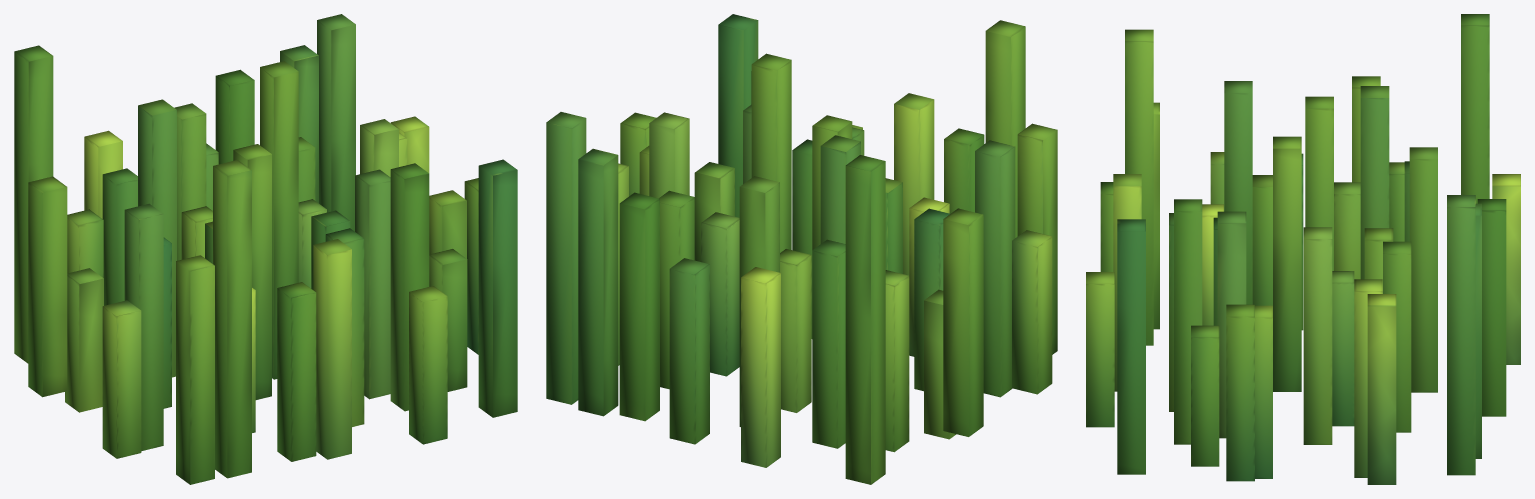
The model's file is Grass.obj.
The picture shows the model from 3 angles, left to right: view 1: azimuth 30°, elevation 25°; view 2: azimuth 150°, elevation 25°; view 3: azimuth 270°, elevation 25°; orthographic projection. The views are drawn at different scales.
Visible parts, largest first — view 1: Grass; view 2: Grass; view 3: Grass.
Part boxes in pixels (x1,y1,x2,y2): Grass: (14, 14, 517, 484); Grass: (546, 14, 1057, 484); Grass: (1086, 14, 1520, 484).
Size of the model in its own units: 1.62 by 1.17 by 1.52.
1 material, 1 textured.
